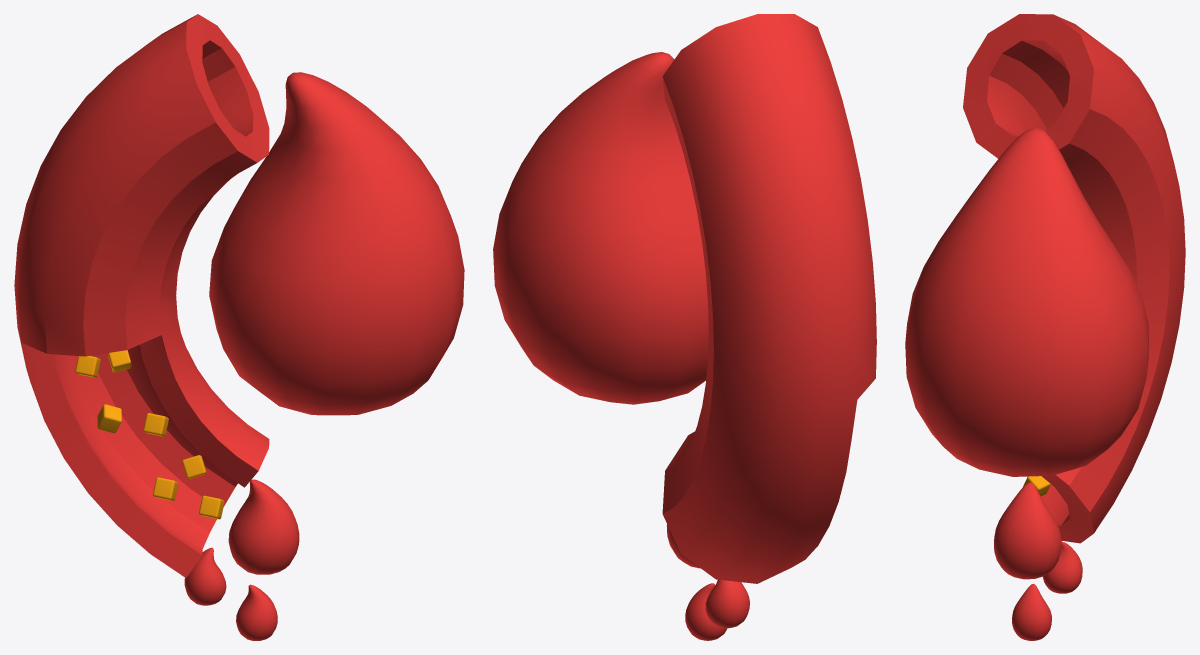
The model's file is 3d-glucose.glb.
The picture shows the model from 3 angles, left to right: view 1: azimuth 30°, elevation 25°; view 2: azimuth 150°, elevation 25°; view 3: azimuth 270°, elevation 25°; orthographic projection. The views are drawn at different scales.
Visible parts, largest first — view 1: Torus.001, Cube.082, Cube.079, Cube.081, Cube.080; view 2: Torus.001, Cube.082, Cube.080, Cube.081; view 3: Cube.082, Torus.001, Cube.079, Cube.081, Cube.080.
Boxes of the visible parts, bbox=[...] form: Torus.001: bbox=[14, 14, 269, 577]; Cube.082: bbox=[209, 72, 464, 415]; Cube.079: bbox=[228, 479, 299, 574]; Cube.081: bbox=[236, 584, 277, 640]; Cube.080: bbox=[184, 547, 226, 605]; Torus.001: bbox=[662, 14, 876, 583]; Cube.082: bbox=[493, 52, 708, 404]; Cube.080: bbox=[705, 579, 749, 628]; Cube.081: bbox=[685, 583, 727, 640]; Cube.082: bbox=[905, 127, 1148, 476]; Torus.001: bbox=[963, 14, 1185, 543]; Cube.079: bbox=[994, 482, 1061, 579]; Cube.081: bbox=[1012, 583, 1051, 640]; Cube.080: bbox=[1043, 541, 1082, 593].
Size of the model in its own units: 3.71 by 5.83 by 2.48.
